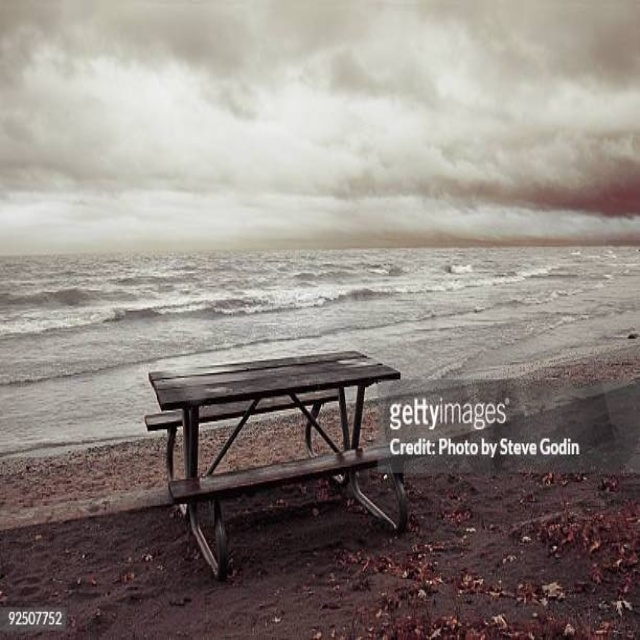obstacle: (145, 351, 406, 578)
